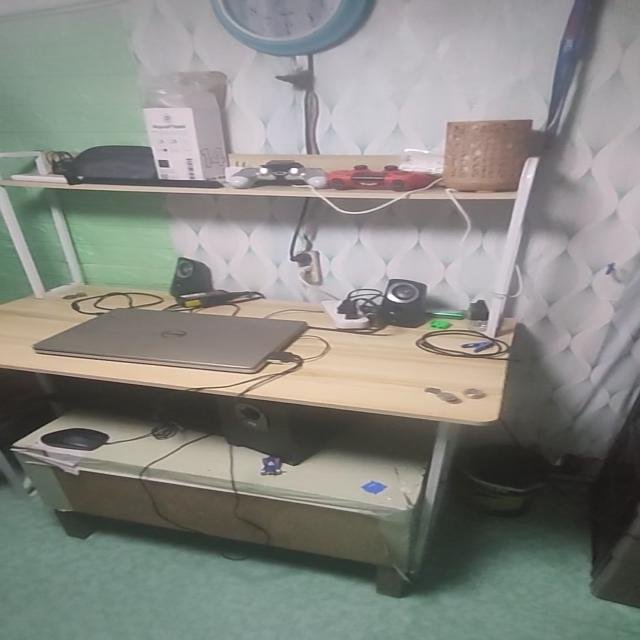table: (0, 273, 525, 605)
